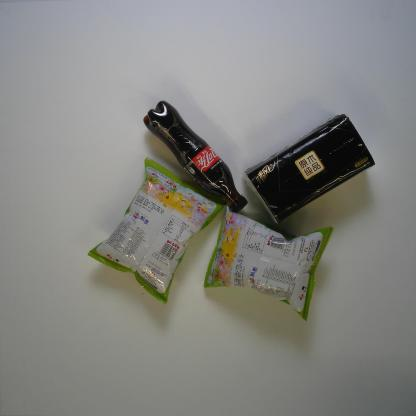Drink: (142, 100, 248, 213)
Puffed Food: (86, 156, 226, 307), (203, 204, 336, 324)
Tissue: (242, 111, 376, 226)
